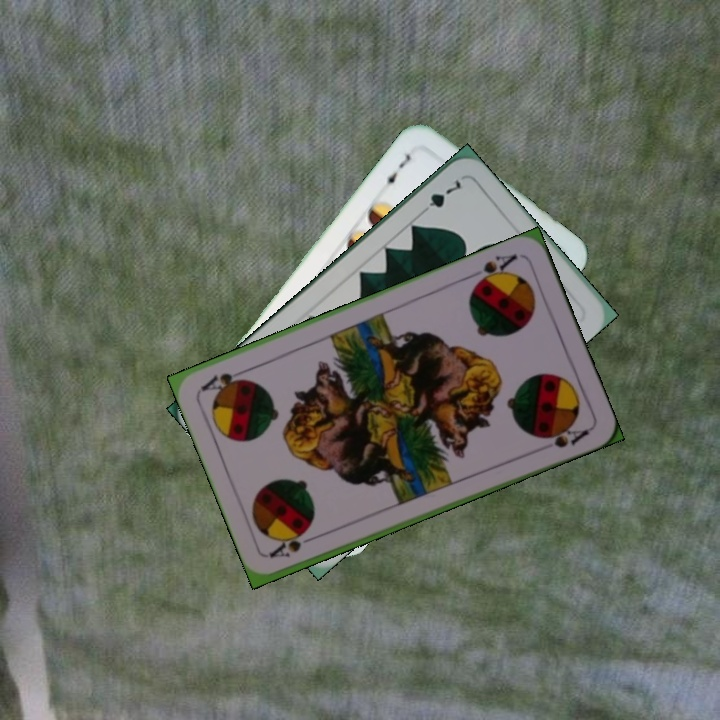E7: (378, 149, 414, 190)
G7: (416, 175, 464, 218)
SA: (466, 249, 520, 289), (265, 530, 322, 561)
